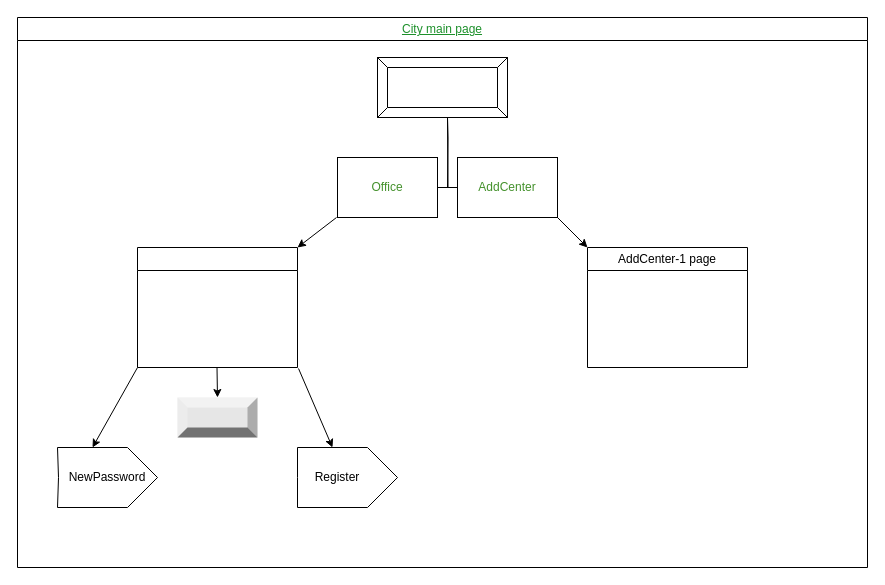
Image size: 885x585. Some labels were removed from this diagram. The centre of each missing label's shape, as x and y in pixels:
Enter: [217,417]
TopbarDropDown: [442,87]
ValidationForm page: [217,307]
